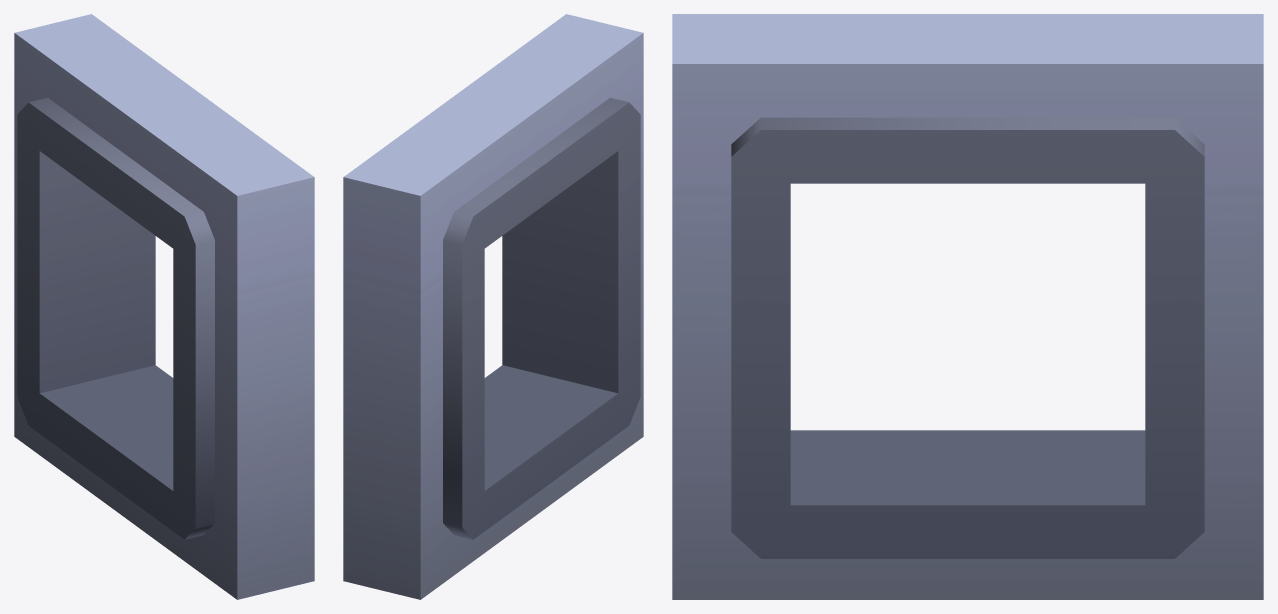
File: kenney-prototype-wall-window-large.glb
3 renders of one model, left to right at view 1: azimuth 30°, elevation 25°; view 2: azimuth 150°, elevation 25°; view 3: azimuth 270°, elevation 25°, orthographic. The views are drawn at different scales.
Visible parts, largest first — view 1: wall-window-large; view 2: wall-window-large; view 3: wall-window-large.
Boxes of the visible parts, x1,y1,x2,y2 form: wall-window-large: (14, 14, 314, 599); wall-window-large: (343, 14, 643, 599); wall-window-large: (672, 14, 1263, 599).
Bounding box in the file's own units: 0.3 × 1 × 1.
1 material, 1 textured.
